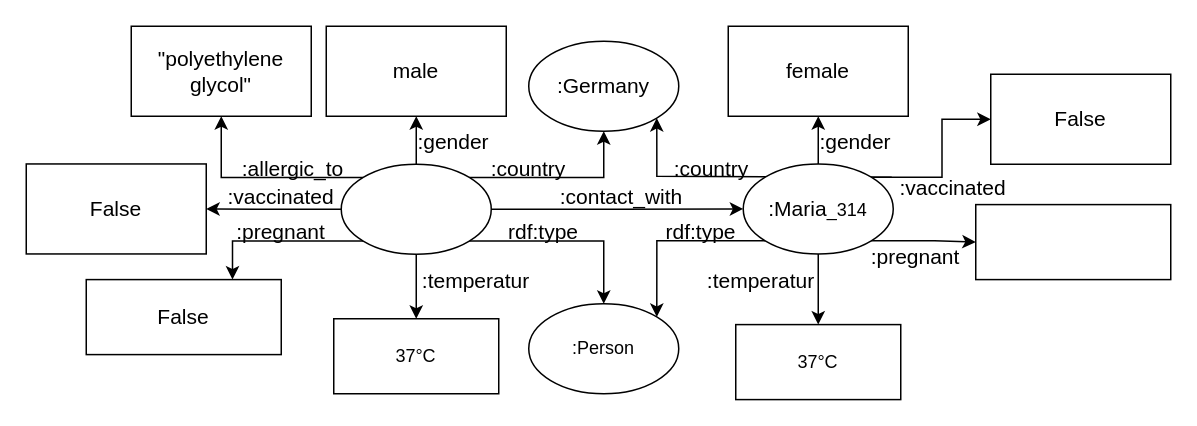
Image size: 1197x426. Some labels were removed from this diagram. The centre of each missing label's shape, as x and y in pixels:
":Max_42" goes at point (415, 208).
"True" goes at point (1072, 241).
